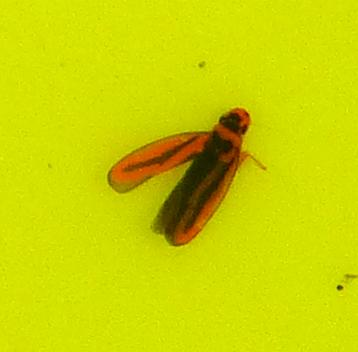Hemiptera: (100, 100, 258, 252)
